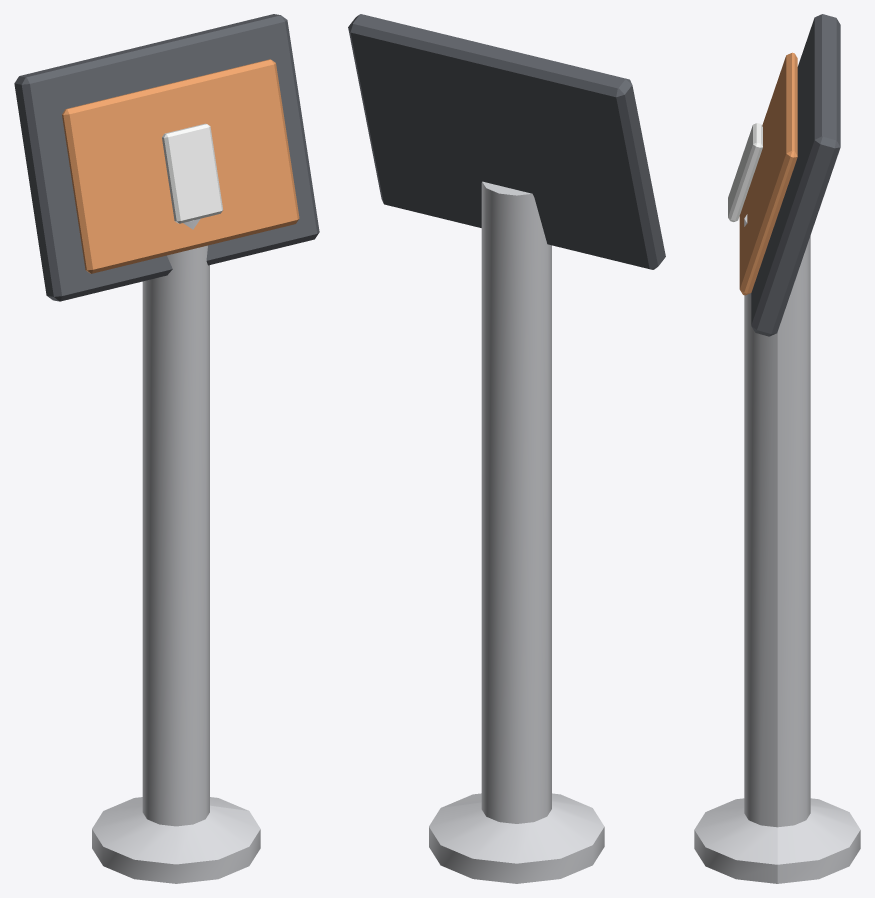
The model's file is university-lecture-hall-and-campus-row-number-sign-0e670611__34744.glb.
The picture shows the model from 3 angles, left to right: view 1: azimuth 30°, elevation 25°; view 2: azimuth 150°, elevation 25°; view 3: azimuth 270°, elevation 25°; orthographic projection. The views are drawn at different scales.
Visible parts, largest first — view 1: row-number-sign; view 2: row-number-sign; view 3: row-number-sign.
Part boxes in pixels (left/top/right/bottom): row-number-sign: left=14, top=14, right=319, bottom=883; row-number-sign: left=348, top=14, right=665, bottom=883; row-number-sign: left=694, top=14, right=860, bottom=883.
Bounding box in the file's own units: 0.2 × 0.5648 × 0.11.
